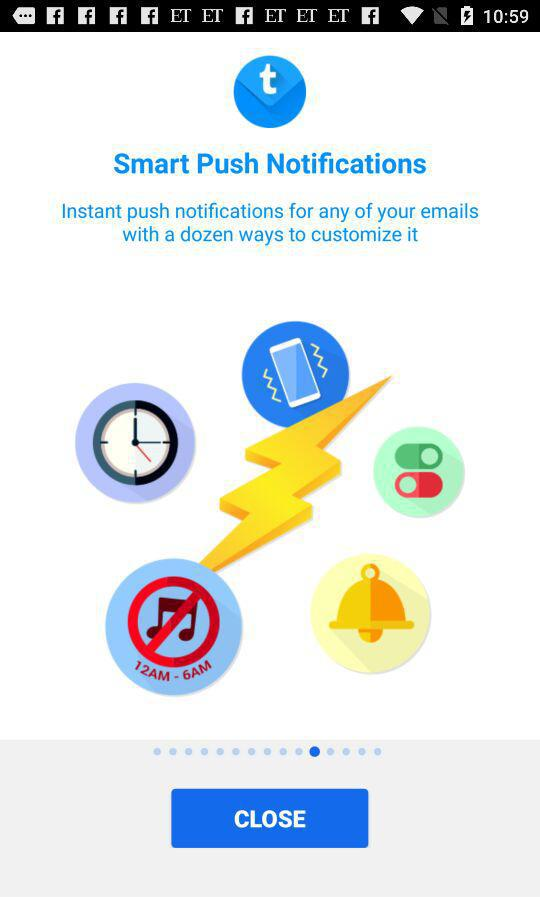Image: (75, 321, 465, 697), (234, 55, 308, 130)
PageIndicator: (152, 745, 384, 760)
Text: (62, 203, 479, 247), (114, 152, 428, 176)
TextButton: (171, 788, 369, 849)
UpperTaskBar: (1, 1, 540, 33)
